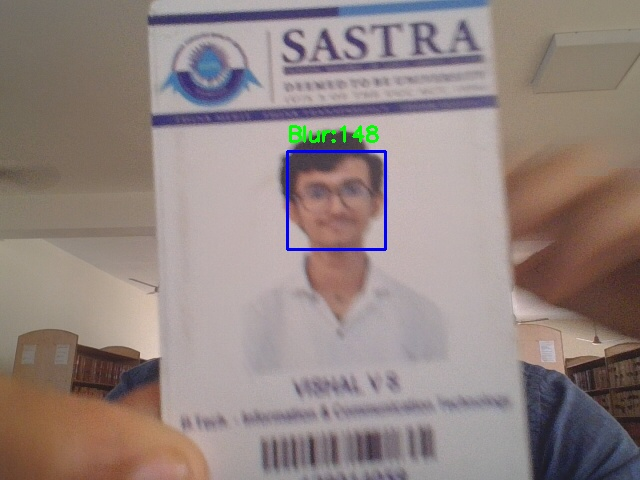fake: (287, 151, 385, 249)
